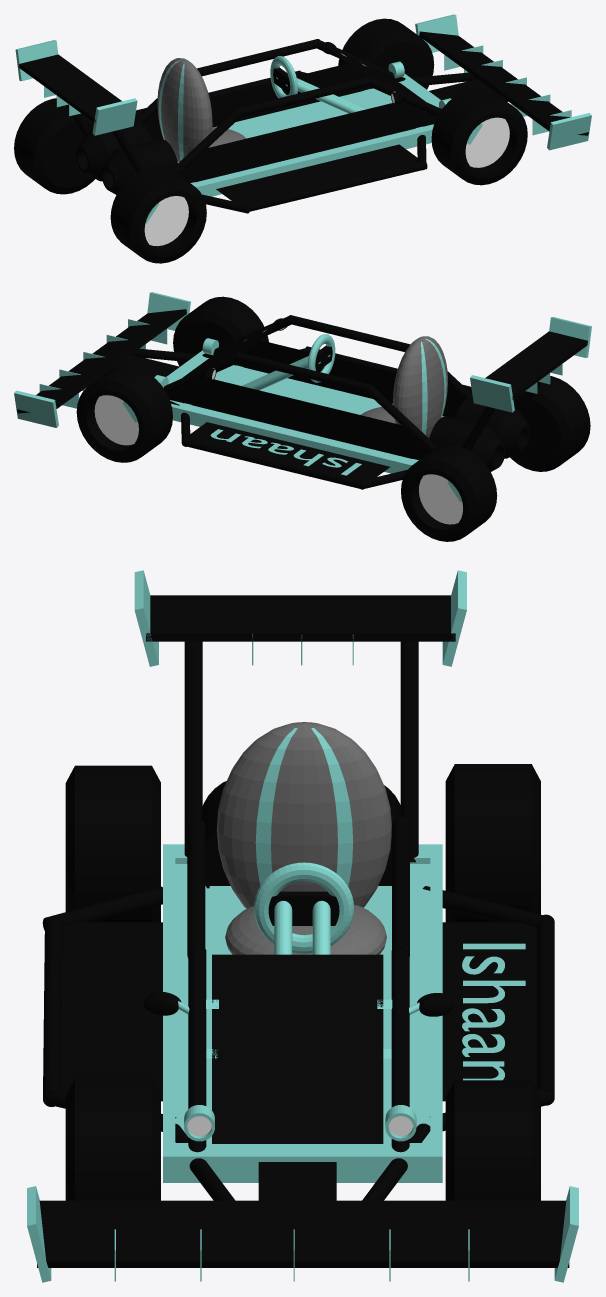
File: MoonRoverIshaan.fbx
3 views of the same model, one above another, from view 1: azimuth 30°, elevation 25°; view 2: azimuth 150°, elevation 25°; view 3: azimuth 270°, elevation 25° (orthographic). The views are drawn at different scales.
Parts seen in each view (by area): view 1: Cylinder.001, Cylinder.002, Plane.012, Cube, Cylinder.003, Sphere, Plane.001, Cube.008, Cylinder.004, Plane.006, Cube.001, Cylinder.006 (+19 smaller); view 2: Cylinder.003, Cylinder.004, Plane.006, Cube, Cylinder.001, Sphere, Cube.008, Cylinder.002, Plane.001, Plane.012, Cube.001, Cylinder.007 (+21 smaller); view 3: Cube.008, Plane, Cube, Plane.001, Sphere, Cube.001, Cylinder.003, Cylinder.001, Cylinder.002, Cylinder.004, Cylinder.005, Torus (+24 smaller).
Part boxes in pixels (box(x1,y1,x2,y2)): Cylinder.001: box(110, 166, 206, 263); Cylinder.002: box(431, 88, 527, 185); Plane.012: box(195, 101, 415, 182); Cube: box(177, 74, 440, 196); Cylinder.003: box(14, 98, 94, 194); Sphere: box(157, 58, 212, 162); Plane.001: box(135, 117, 417, 203); Cube.008: box(419, 31, 588, 135); Cylinder.004: box(338, 18, 434, 89); Plane.006: box(143, 63, 363, 141); Cube.001: box(18, 54, 121, 123); Cylinder.006: box(101, 139, 177, 194); Cylinder.003: box(401, 445, 497, 541); Cylinder.004: box(76, 366, 172, 462); Plane.006: box(192, 377, 412, 458); Cube: box(166, 350, 444, 473); Cylinder.001: box(510, 376, 590, 471); Sphere: box(393, 336, 447, 438); Cube.008: box(16, 309, 186, 413); Cylinder.002: box(173, 296, 268, 366); Plane.001: box(190, 422, 389, 480); Plane.012: box(243, 340, 464, 418); Cube.001: box(485, 331, 587, 399); Cylinder.007: box(427, 416, 505, 471); Cube.008: box(37, 1200, 569, 1267); Plane: box(212, 954, 383, 1143); Cube: box(163, 844, 442, 1182); Plane.001: box(60, 922, 537, 1101); Sphere: box(217, 722, 391, 908); Cube.001: box(146, 595, 455, 641); Cylinder.003: box(445, 764, 540, 922); Cylinder.001: box(65, 765, 160, 922); Cylinder.002: box(65, 1079, 160, 1200); Cylinder.004: box(445, 1080, 540, 1200); Cylinder.005: box(400, 641, 418, 862); Torus: box(254, 862, 353, 953).
Bounding box in the file's own units: 773 × 246 × 395.
